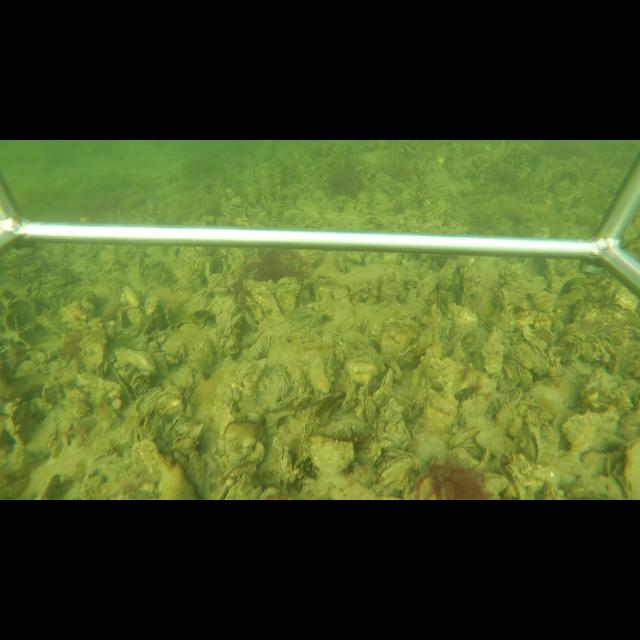Oyster-Closed: (561, 411, 623, 452), (207, 292, 241, 359), (307, 434, 356, 480), (378, 315, 421, 365), (506, 342, 551, 379), (613, 437, 639, 498), (328, 370, 356, 422), (478, 327, 506, 379), (111, 346, 156, 375), (306, 350, 331, 395), (275, 277, 302, 314), (371, 366, 394, 405), (448, 427, 481, 448), (362, 395, 378, 432), (461, 443, 484, 457), (204, 257, 214, 282), (137, 251, 145, 280)
Oyster-Open: (377, 456, 416, 485), (114, 368, 138, 405), (213, 476, 250, 500), (522, 429, 544, 464)
